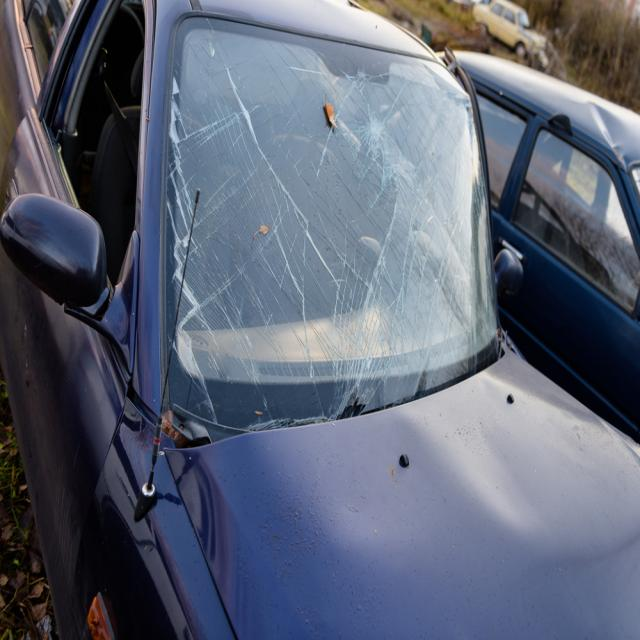Windshield: (172, 14, 495, 365)
